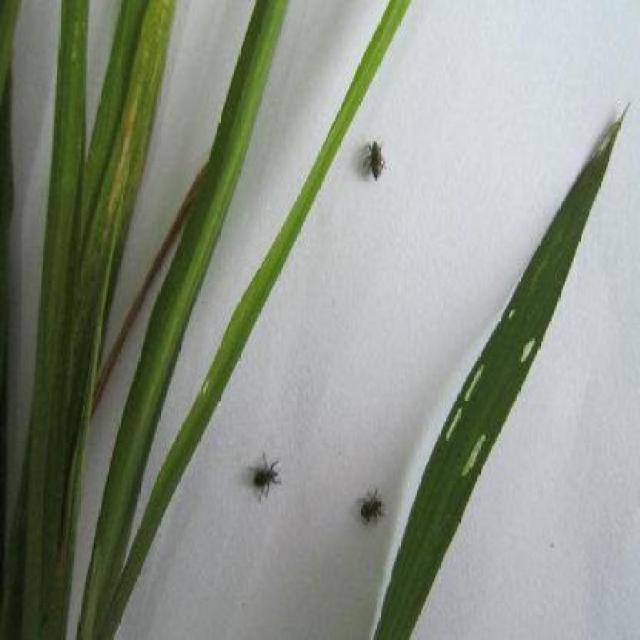rice-bug: (248, 446, 289, 499), (361, 136, 392, 184), (355, 486, 391, 526)
